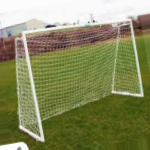goals: (11, 17, 147, 143)
